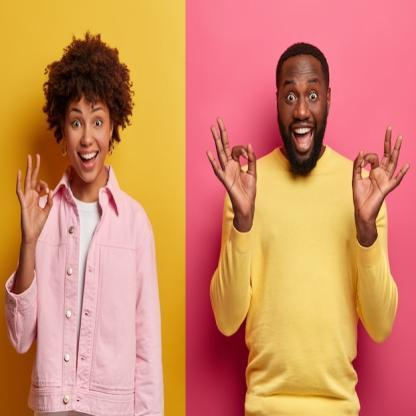ok: (350, 122, 412, 232), (207, 113, 260, 222), (14, 148, 57, 241)
